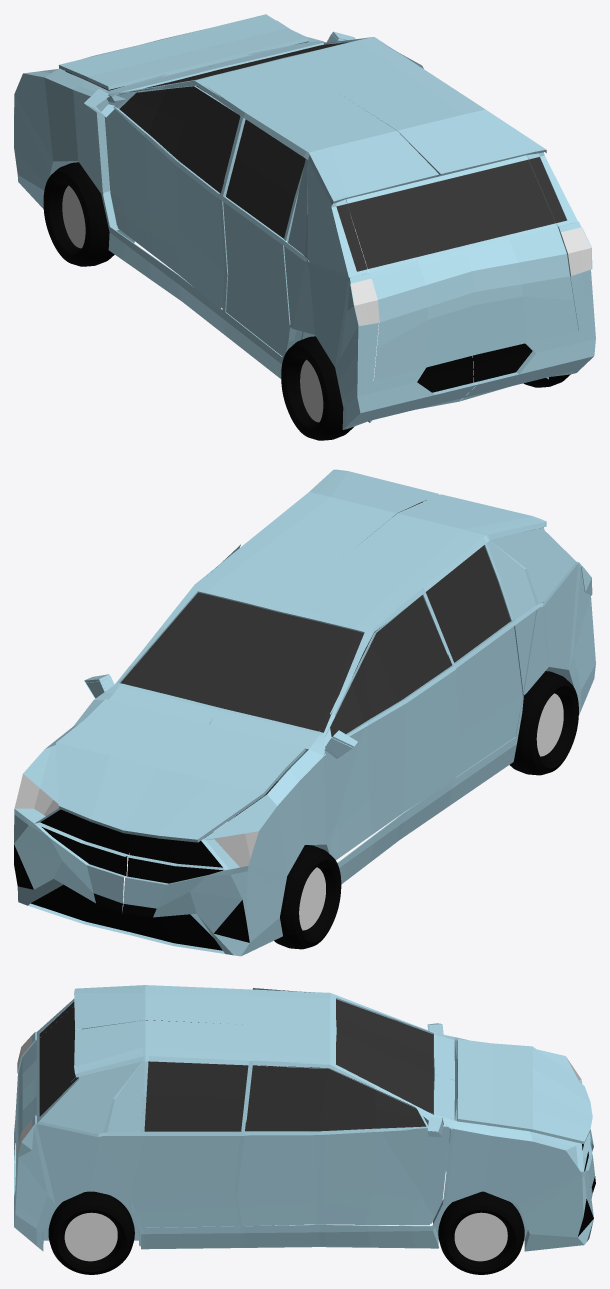
File: axia.fbx
3 views of the same model, one above another, from view 1: azimuth 30°, elevation 25°; view 2: azimuth 150°, elevation 25°; view 3: azimuth 270°, elevation 25° (orthographic). The views are drawn at different scales.
Parts seen in each view (by area): view 1: CarChassis, Hood, Rear Tires, Front Tire, Rims, Rims.001; view 2: CarChassis, Hood, Rear Tires, Front Tire, Rims.001, Rims; view 3: CarChassis, Hood, Rear Tires, Front Tire, Rims, Rims.001.
Boxes of the visible parts, box(x1,y1,x2,y2) form: CarChassis: box(14, 20, 595, 429); Hood: box(58, 14, 308, 89); Rear Tires: box(281, 336, 570, 440); Front Tire: box(43, 162, 114, 266); Rims: box(62, 185, 85, 248); Rims.001: box(300, 359, 323, 422); CarChassis: box(14, 469, 595, 956); Hood: box(56, 699, 305, 842); Rear Tires: box(510, 671, 578, 775); Front Tire: box(274, 845, 341, 949); Rims.001: box(536, 693, 563, 756); Rims: box(299, 867, 325, 930); CarChassis: box(14, 985, 595, 1251); Hood: box(457, 1039, 592, 1144); Rear Tires: box(48, 1191, 134, 1274); Front Tire: box(438, 1191, 524, 1274); Rims: box(454, 1212, 507, 1261); Rims.001: box(64, 1212, 117, 1261).
Bounding box in the file's own units: 119 × 107 × 271.
